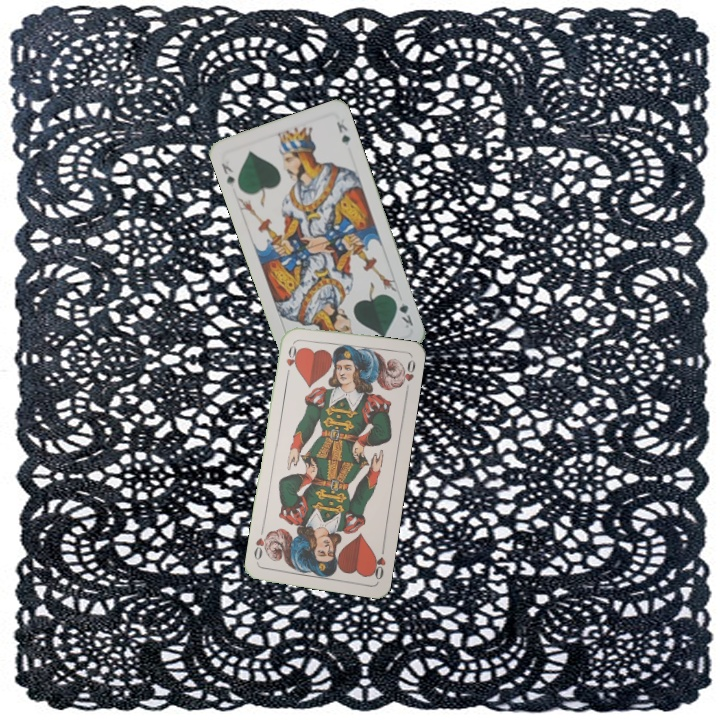GK: (390, 294, 416, 331), (217, 159, 237, 190)
HO: (368, 542, 388, 582), (282, 338, 299, 378)
